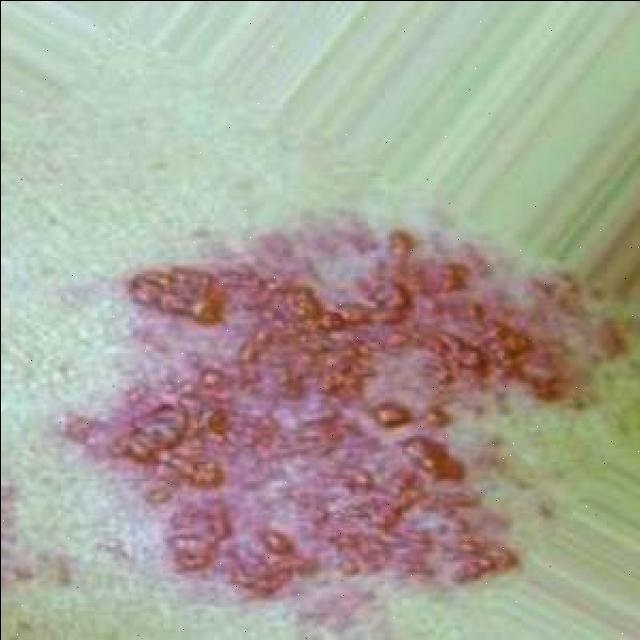Shingles: (70, 218, 574, 593)
